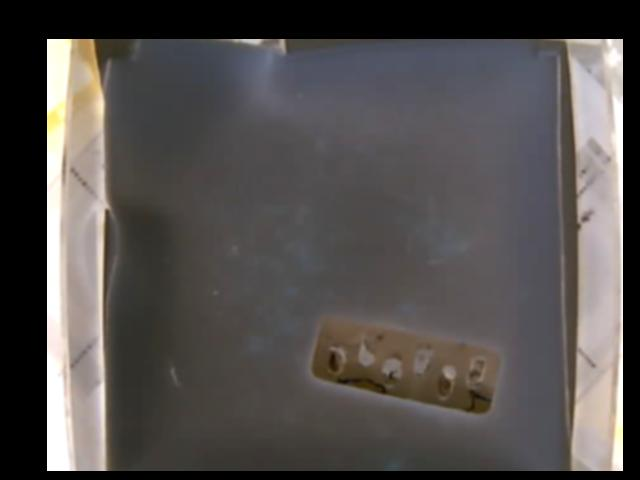Medicine: (310, 316, 506, 407)
